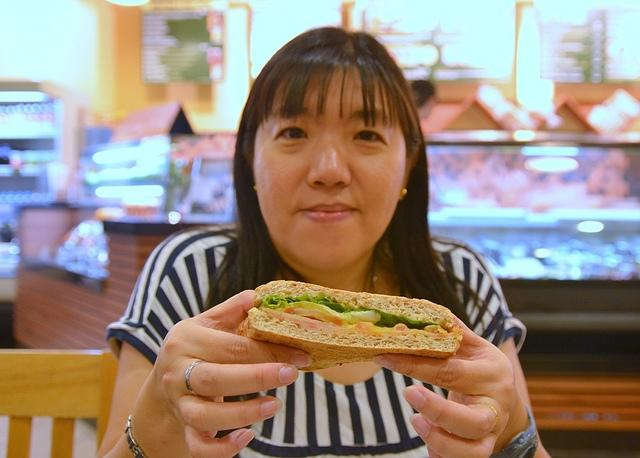lettuce: (353, 307, 439, 328), (318, 300, 351, 314), (258, 295, 288, 310), (284, 294, 314, 302)
